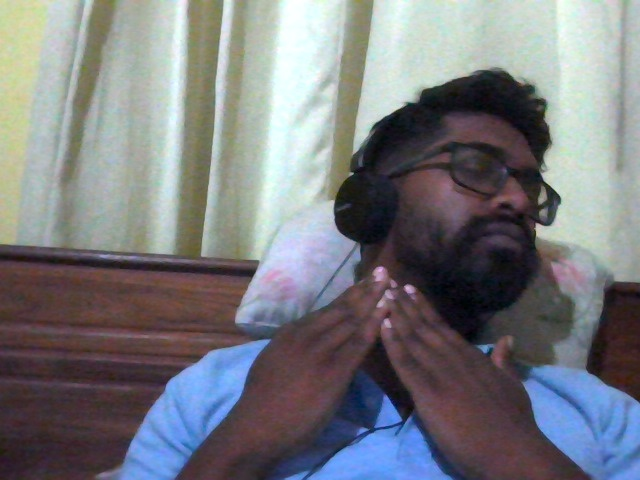Thank you: (135, 252, 630, 480)
